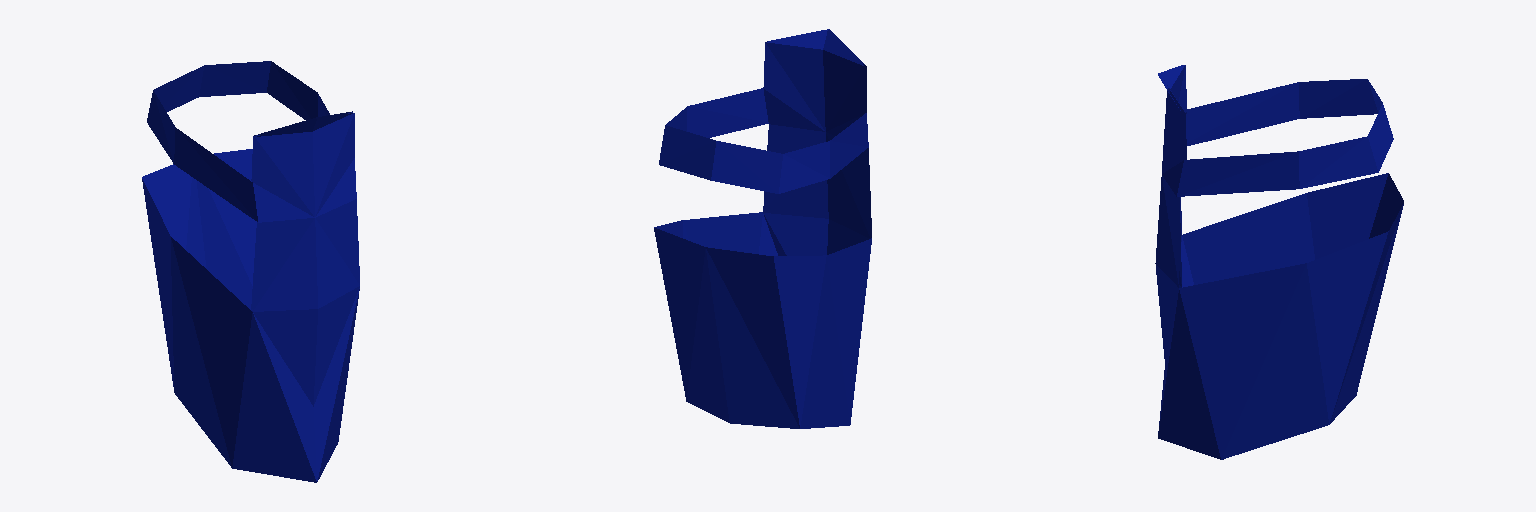
Rendered from TestShinR.obj.
The picture shows the model from 3 angles: view 1: azimuth 30°, elevation 25°; view 2: azimuth 150°, elevation 25°; view 3: azimuth 270°, elevation 25°; orthographic projection.
Visible parts, largest first — view 1: ShinArmor1.r_Cube.005; view 2: ShinArmor1.r_Cube.005; view 3: ShinArmor1.r_Cube.005.
Part boxes in pixels (bbox=[...]): ShinArmor1.r_Cube.005: bbox=[142, 61, 359, 482]; ShinArmor1.r_Cube.005: bbox=[654, 29, 871, 428]; ShinArmor1.r_Cube.005: bbox=[1155, 65, 1403, 459].
Bounding box in the file's own units: 0.136 × 0.3284 × 0.2033.